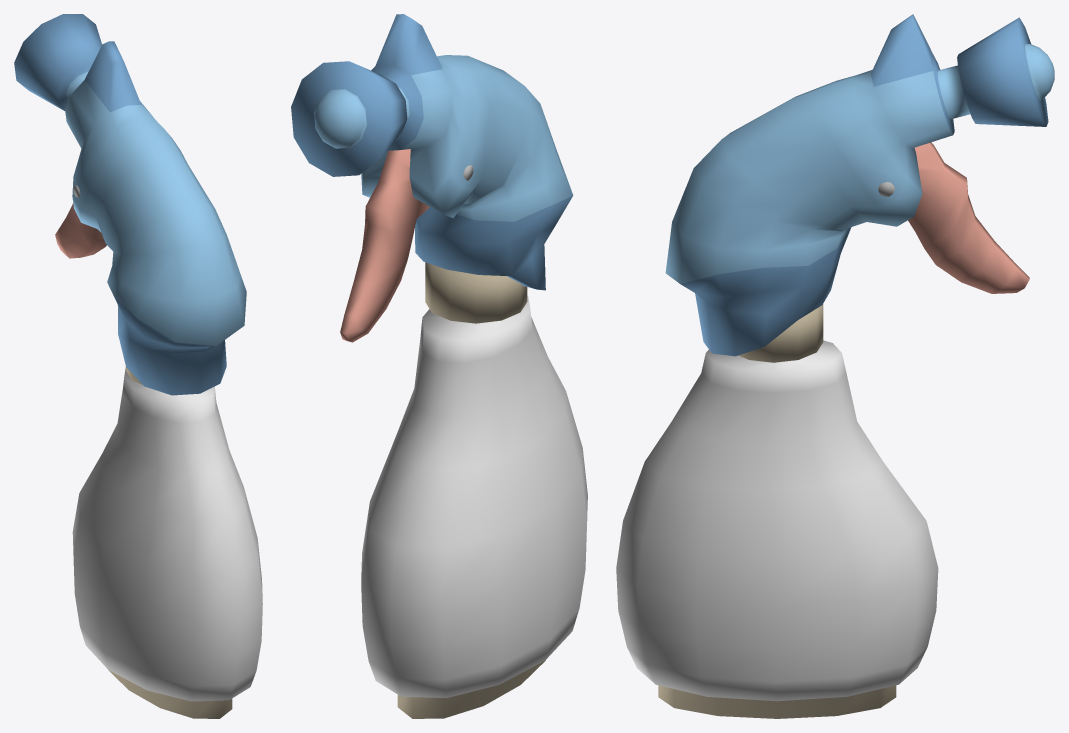
File: spray.fbx
The picture shows the model from 3 angles, left to right: view 1: azimuth 30°, elevation 25°; view 2: azimuth 150°, elevation 25°; view 3: azimuth 270°, elevation 25°; orthographic projection. The views are drawn at different scales.
Visible parts, largest first — view 1: Cylinder; view 2: Cylinder; view 3: Cylinder.
Boxes of the visible parts, bbox=[...] form: Cylinder: bbox=[14, 14, 262, 718]; Cylinder: bbox=[291, 14, 587, 718]; Cylinder: bbox=[616, 14, 1054, 718].
Size of the model in its own units: 101 by 420 by 245.
